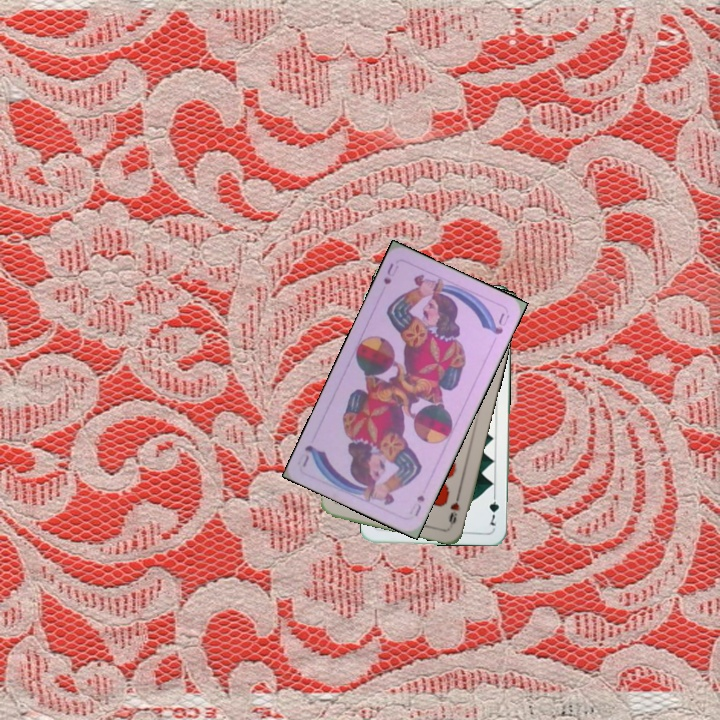G7: (485, 489, 502, 528)
H9: (445, 489, 463, 529)
SU: (405, 491, 428, 519), (379, 259, 401, 287)
